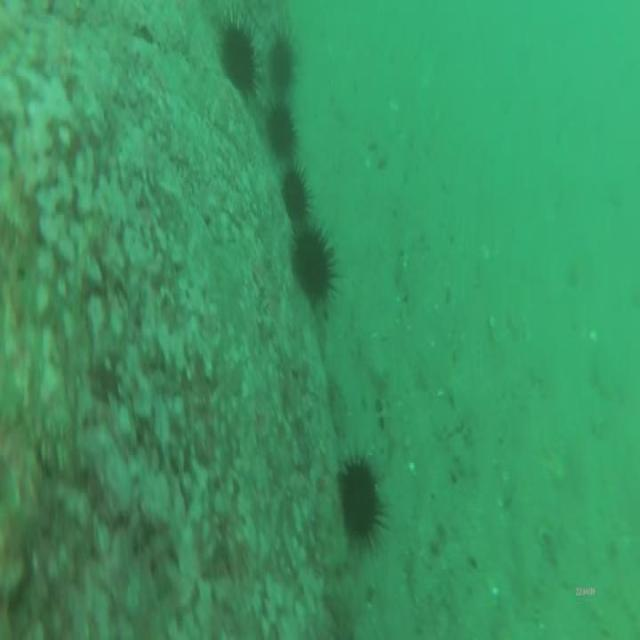echinus: (337, 447, 391, 552), (287, 216, 339, 314), (214, 8, 262, 103), (263, 91, 301, 168), (264, 25, 299, 100), (276, 161, 314, 223)
holothurian: (309, 464, 354, 636)
